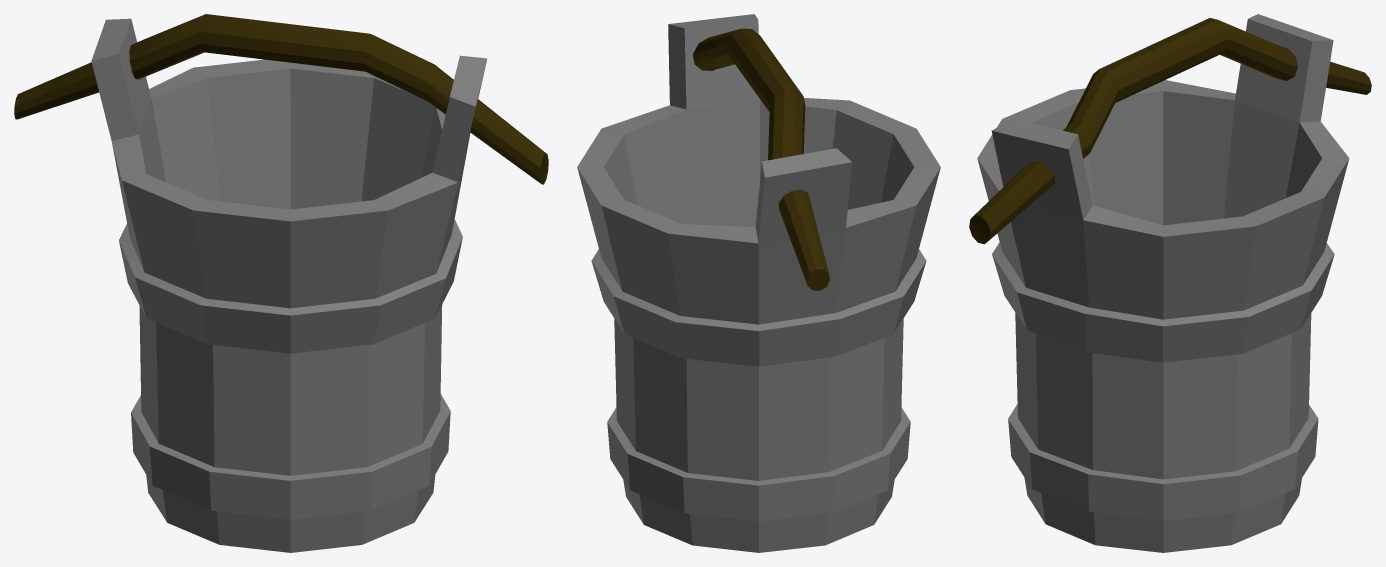
Rendered from bucket fixed again.fbx.
The picture shows the model from 3 angles, left to right: view 1: azimuth 30°, elevation 25°; view 2: azimuth 150°, elevation 25°; view 3: azimuth 270°, elevation 25°; orthographic projection. The views are drawn at different scales.
Parts seen in each view (by area): view 1: pCylinder1, pCylinder2; view 2: pCylinder1, pCylinder2; view 3: pCylinder1, pCylinder2.
Boxes of the visible parts, box(x1,y1,x2,y2) form: pCylinder1: box(91, 18, 487, 552); pCylinder2: box(14, 14, 548, 184); pCylinder1: box(577, 14, 940, 552); pCylinder2: box(693, 28, 829, 290); pCylinder1: box(977, 14, 1349, 552); pCylinder2: box(969, 18, 1371, 244).
Bounding box in the file's own units: 2.04 × 2.67 × 2.16.
